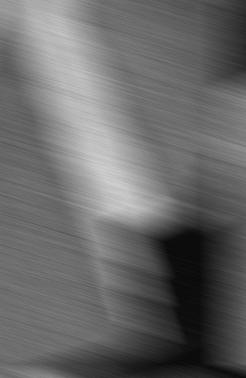Airbag: (0, 0, 246, 378), (228, 0, 246, 377), (0, 372, 246, 378), (228, 373, 246, 378)
